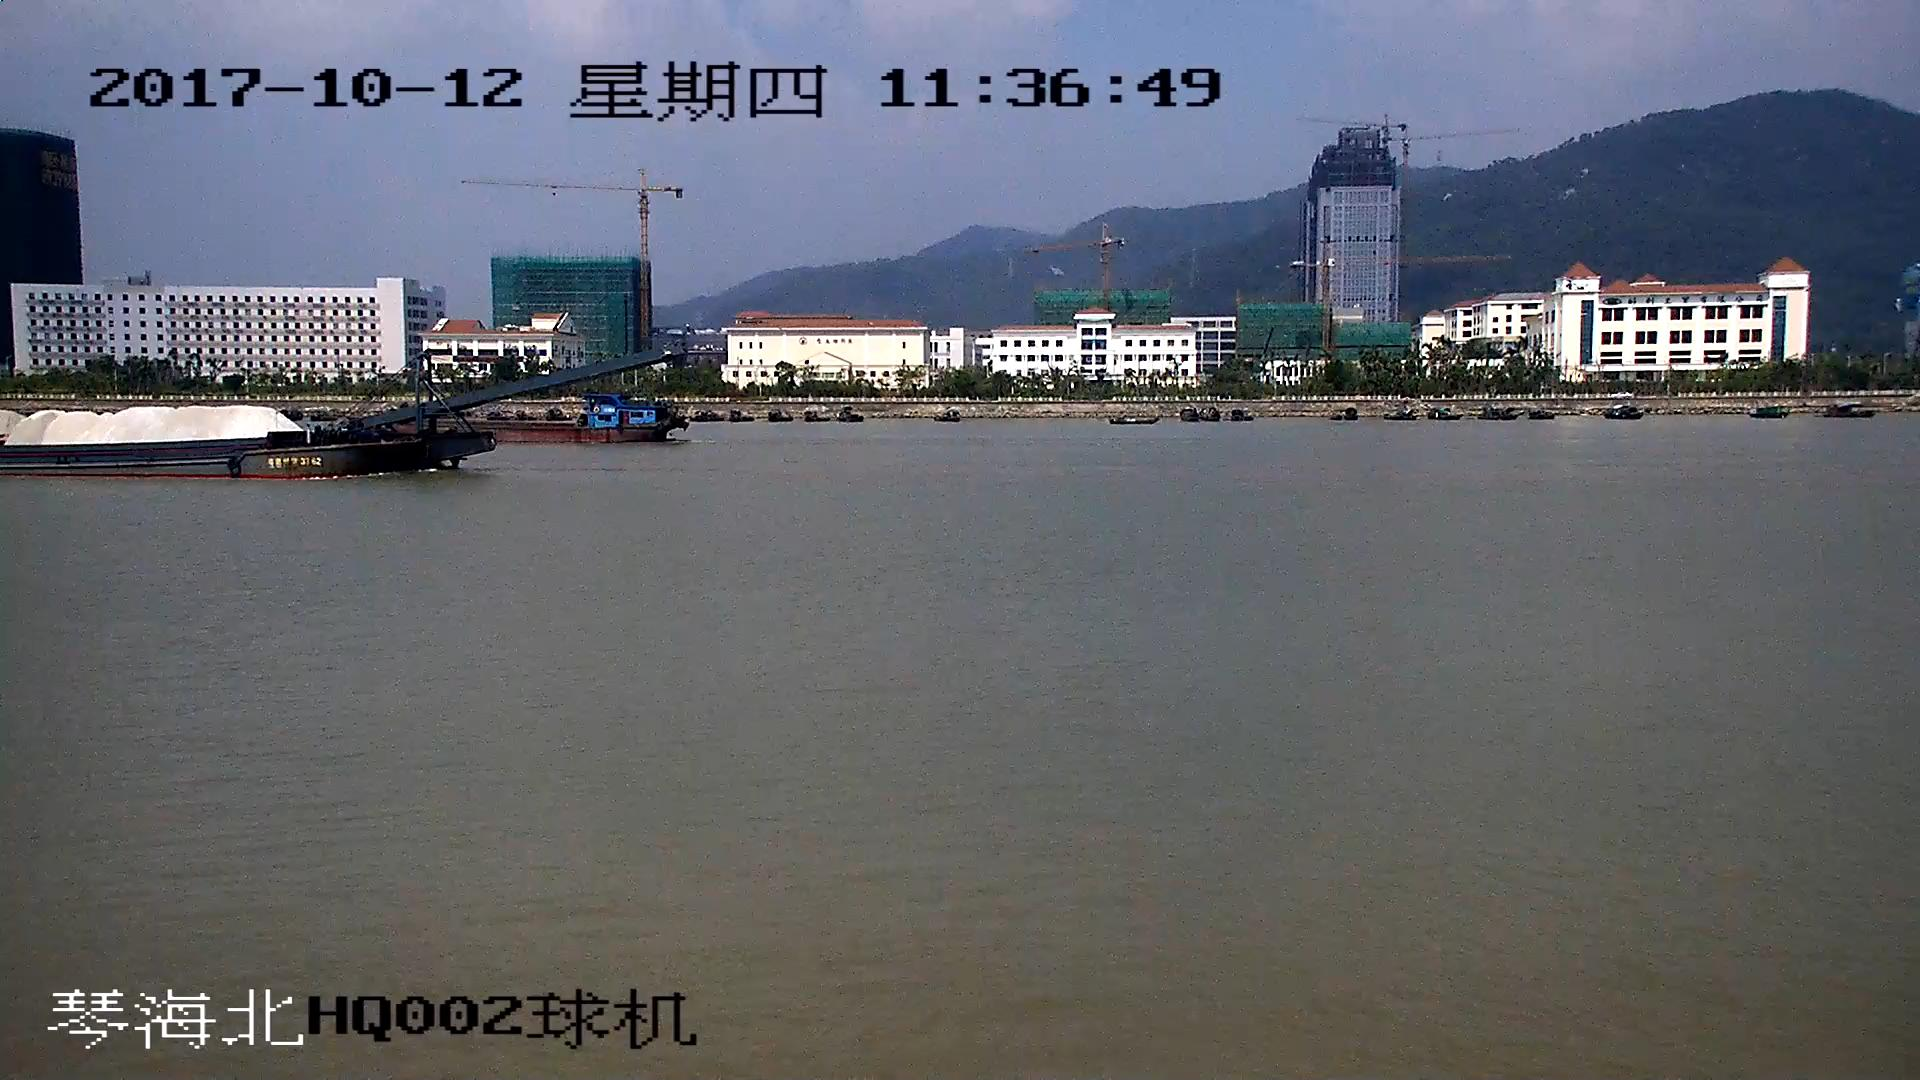bulk cargo carrier: (483, 396, 690, 445)
ore carrier: (1, 352, 670, 474)
